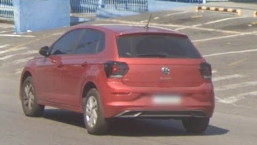car: (17, 8, 217, 139)
